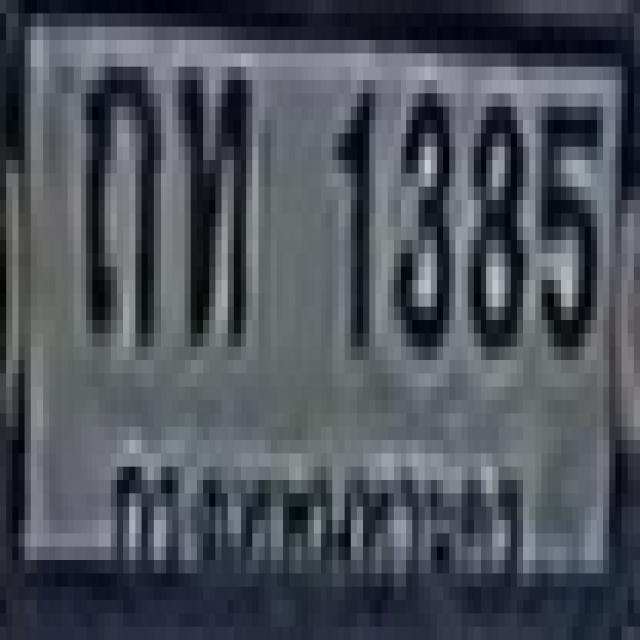1: (332, 80, 370, 347)
3: (388, 80, 449, 347)
5: (535, 93, 597, 347)
8: (465, 93, 520, 347)
A22: (80, 54, 154, 334)
A23: (172, 67, 246, 333)
BKK: (108, 453, 532, 602)
